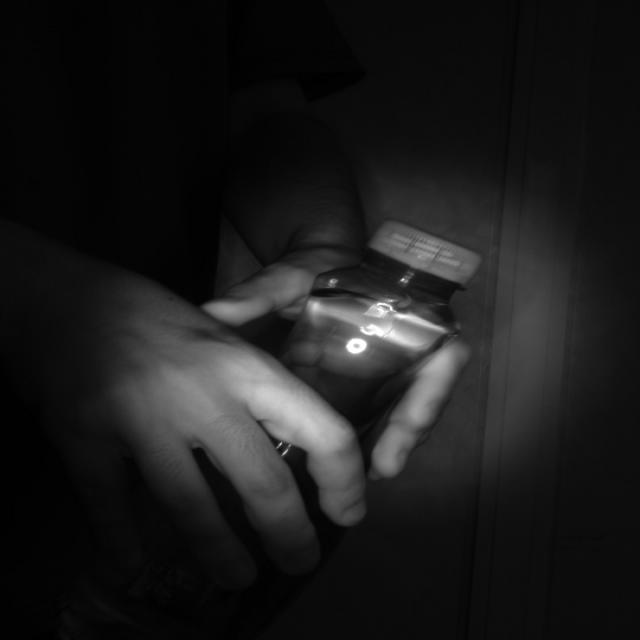Good: (367, 219, 484, 288)
